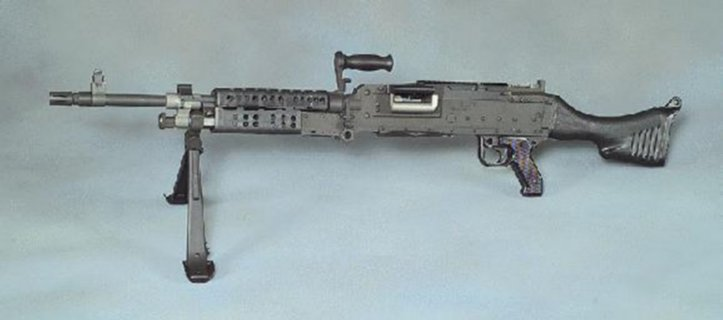rifle: (23, 26, 695, 277)
